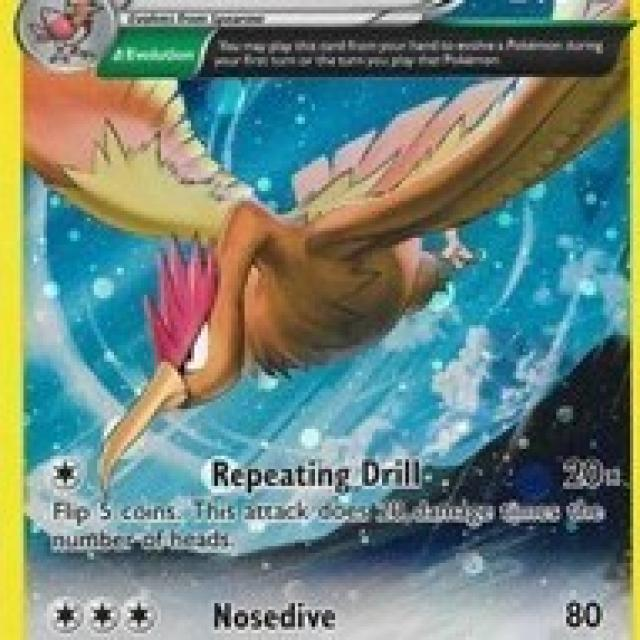Fearow: (83, 88, 485, 430)
